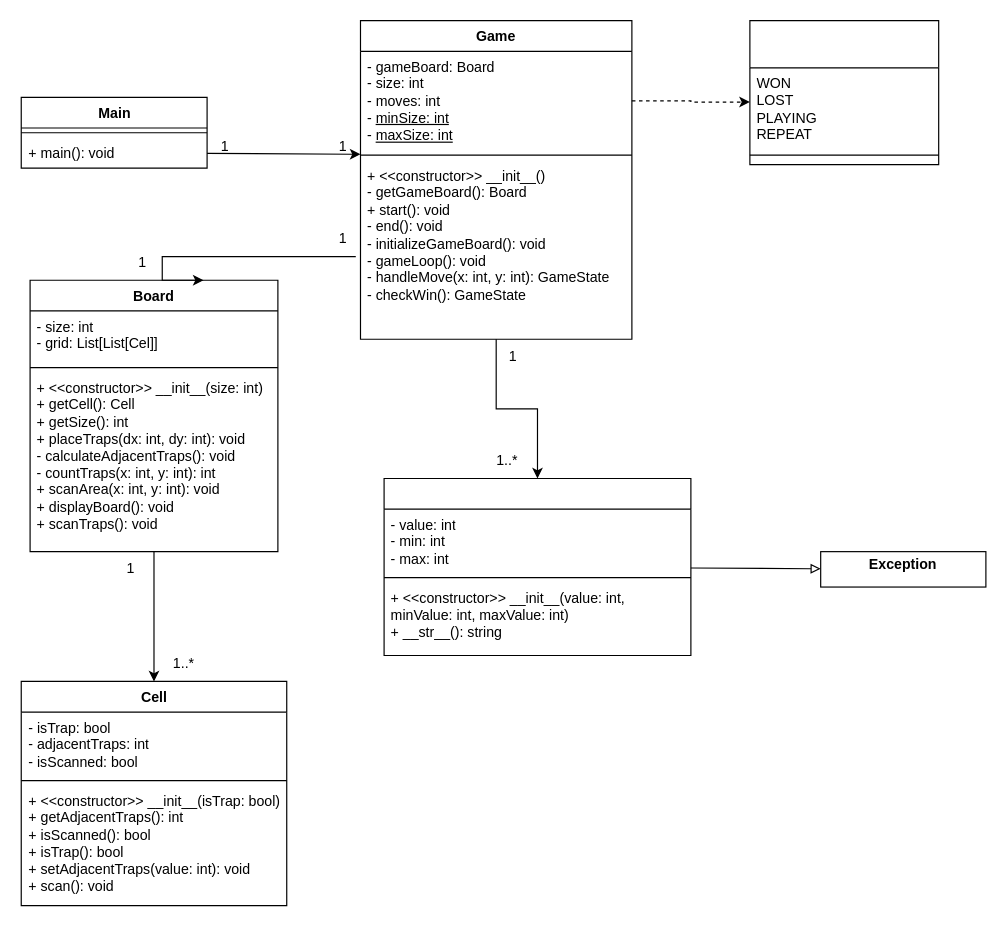
Image size: 1007x930. Some labels were removed from this diagram. The box of each missing label's shape, as (x1, y1, x2, y2) in pixels:
<<enum>> GameState: (749, 19, 939, 165)
OutOfRangeError: (383, 477, 691, 655)
